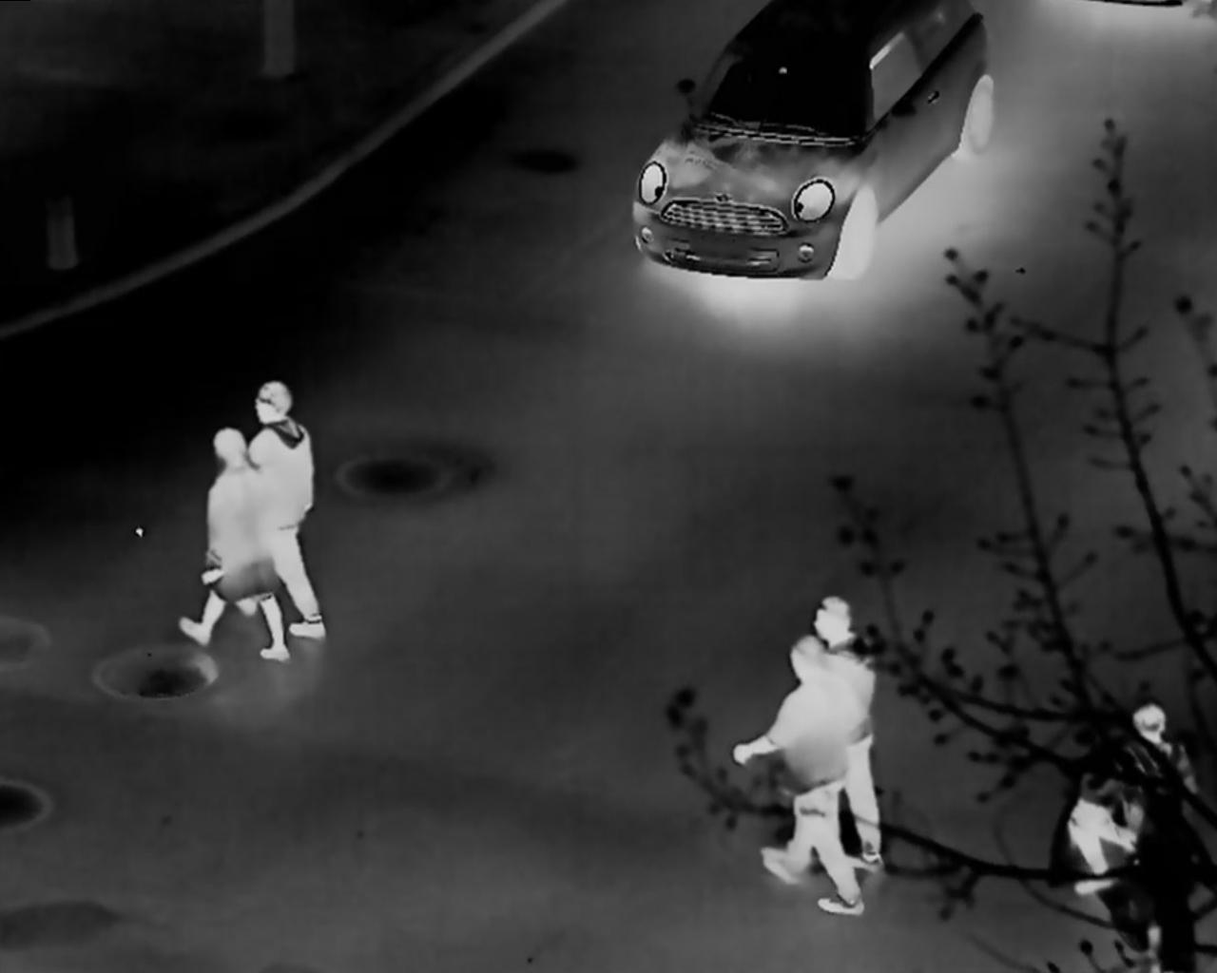person: (741, 642, 861, 912), (182, 429, 289, 670), (1067, 702, 1181, 906), (251, 376, 321, 645), (800, 592, 870, 847)
